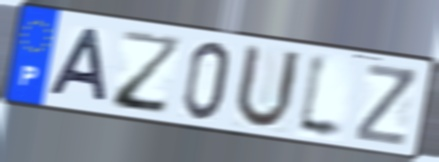0: (179, 39, 234, 124)
A: (46, 26, 110, 106)
L: (293, 49, 348, 146)
U: (231, 40, 304, 133)
Z: (111, 27, 185, 118), (353, 61, 419, 150)
